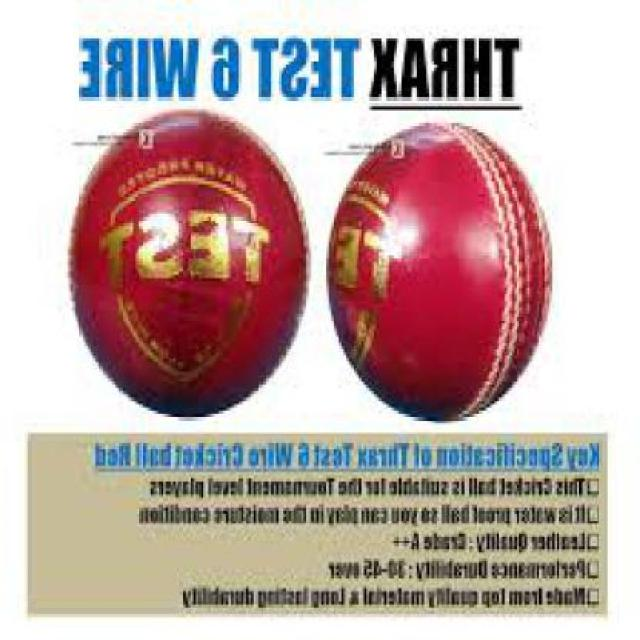ball: (46, 102, 314, 428)
